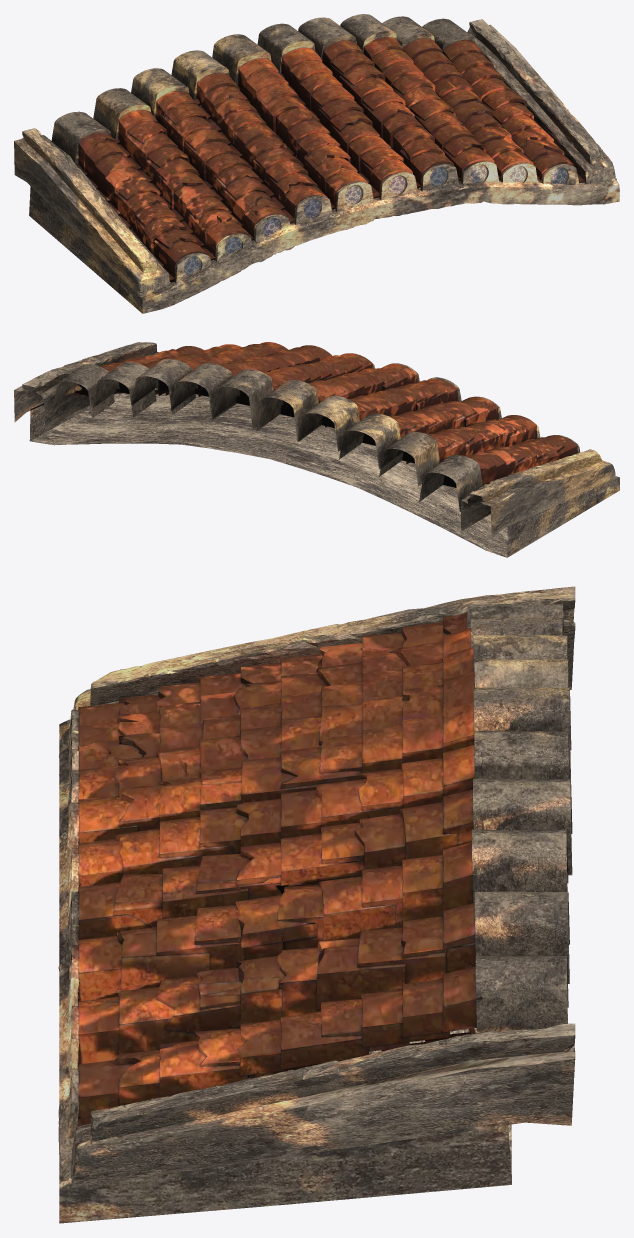
The model's file is norm.glb.
The picture shows the model from 3 angles, top to bottom: view 1: azimuth 30°, elevation 25°; view 2: azimuth 150°, elevation 25°; view 3: azimuth 270°, elevation 25°; orthographic projection. The views are drawn at different scales.
Visible parts, largest first — view 1: Cylinder.024, xi mg ghep, n ngoii.007, Cylinder.044; view 2: xi mg ghep, Cylinder.024, Cylinder.044, n ngoii.007; view 3: Cylinder.024, n ngoii.007, Cylinder.044, xi mg ghep.
Boxes of the visible parts, bbox=[...] form: Cylinder.024: bbox=[76, 37, 584, 282]; xi mg ghep: bbox=[29, 155, 619, 313]; n ngoii.007: bbox=[14, 19, 616, 297]; Cylinder.044: bbox=[51, 14, 474, 165]; xi mg ghep: bbox=[29, 348, 619, 557]; Cylinder.024: bbox=[73, 342, 577, 485]; Cylinder.044: bbox=[53, 359, 482, 511]; n ngoii.007: bbox=[14, 342, 616, 538]; Cylinder.024: bbox=[77, 612, 482, 1126]; n ngoii.007: bbox=[71, 586, 575, 1187]; Cylinder.044: bbox=[467, 604, 572, 1032]; xi mg ghep: bbox=[58, 709, 511, 1223].
Bounding box in the file's own units: 4.33 × 1.18 × 2.03.
14 materials, 14 textured.
